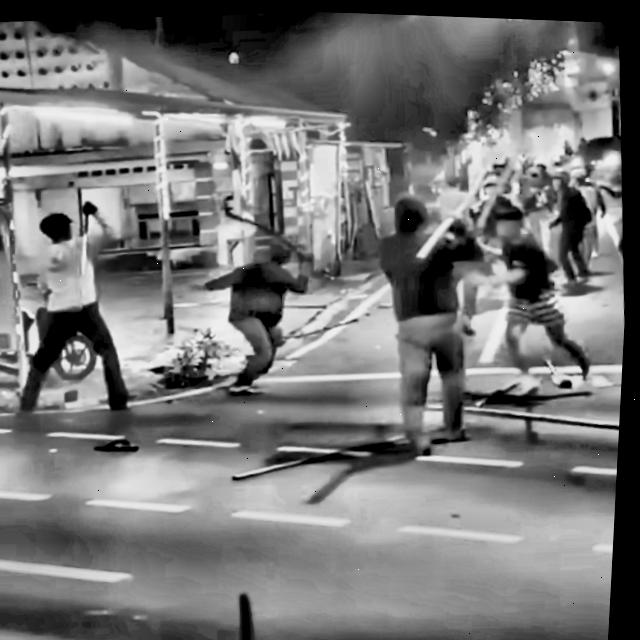robbery: (0, 88, 635, 482)
